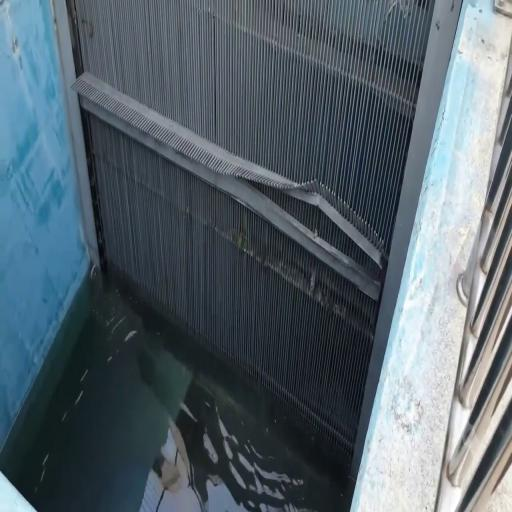rake_broken: (217, 162, 389, 275)
